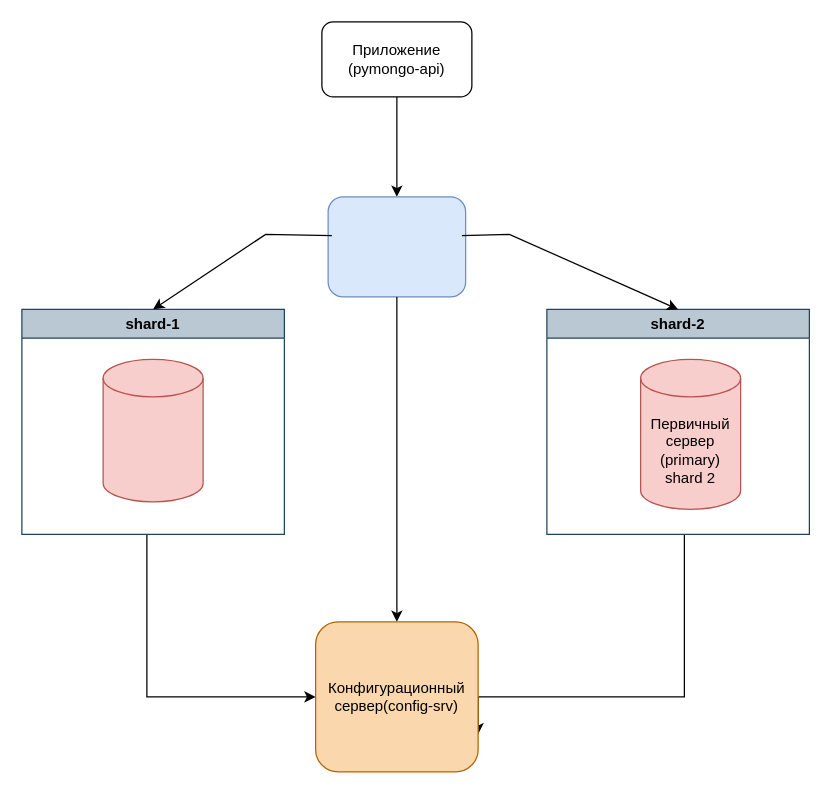
Some shapes in this 831 by 794 pixel diagram are drawn without their labels. The box of each missing label's shape, as (x1, y1, x2, y2) in pixels:
Первичный сервер (primary) shard 1: (102, 358, 203, 502)
Роутер (mongos-router): (327, 196, 466, 297)
